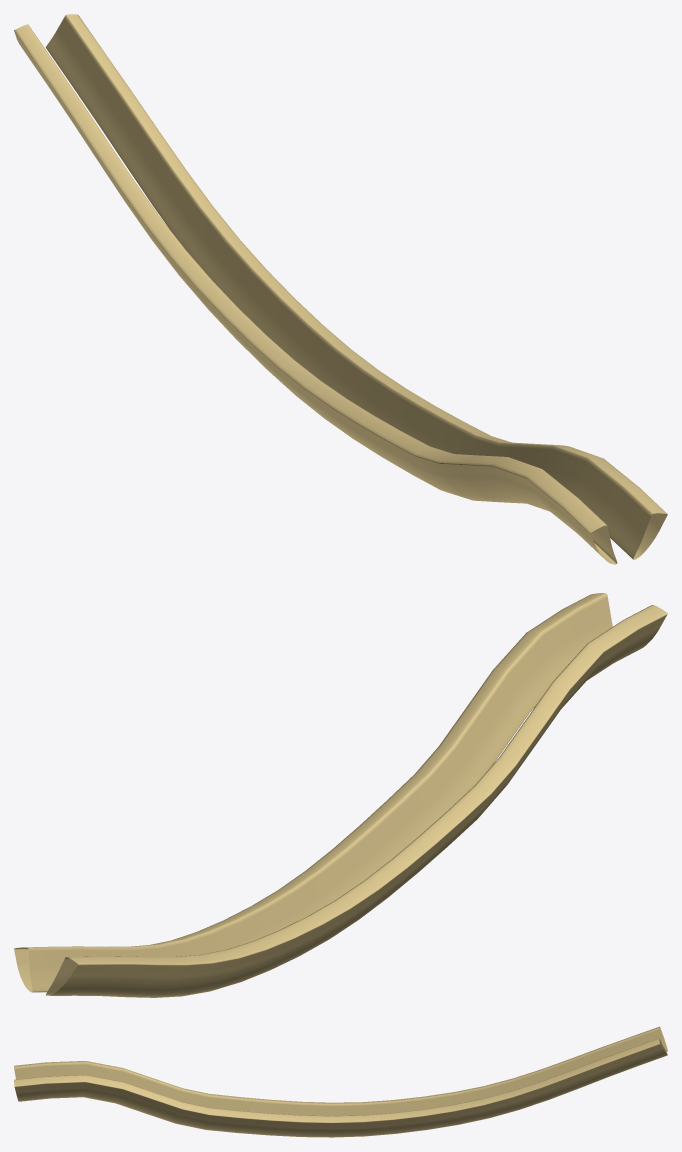
3 views of the same model, one above another, from view 1: azimuth 30°, elevation 25°; view 2: azimuth 150°, elevation 25°; view 3: azimuth 270°, elevation 25° (orthographic). The views are drawn at different scales.
Visible parts, largest first — view 1: 楔束; view 2: 楔束; view 3: 楔束.
Part boxes in pixels (left/top/right/bottom): 楔束: left=14, top=14, right=667, bottom=564; 楔束: left=14, top=593, right=667, bottom=997; 楔束: left=14, top=1026, right=667, bottom=1137.
Bounding box in the file's own units: 0.0114 × 0.0259 × 0.1508.
